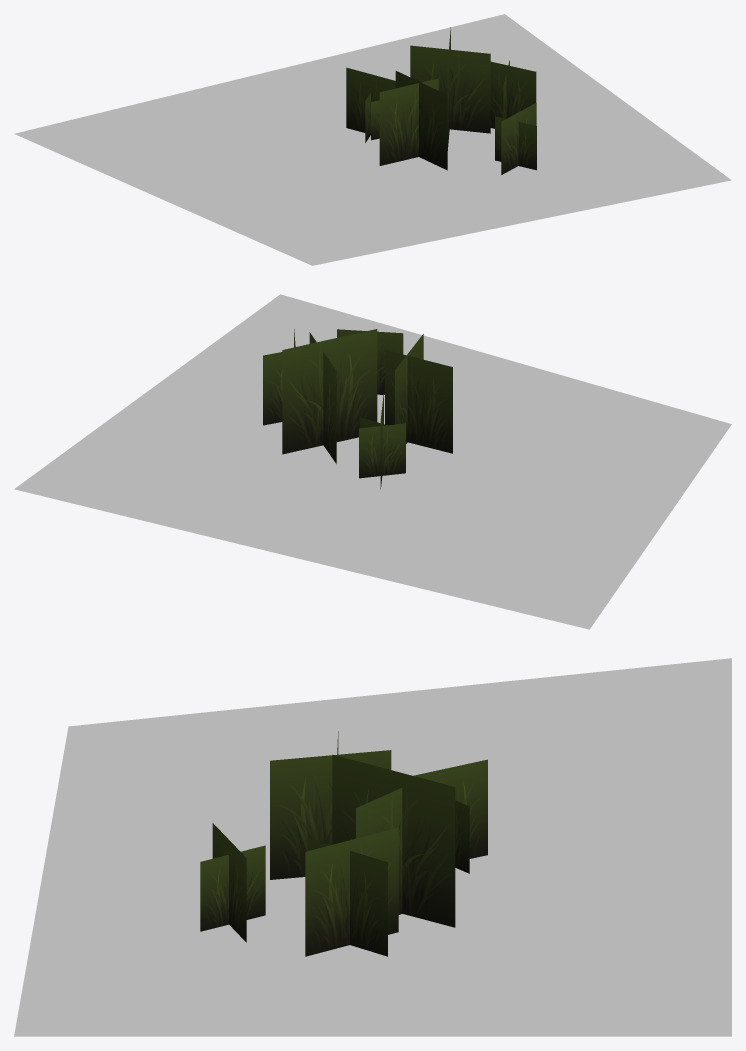
File: Mud_Decal_08.fbx
The picture shows the model from 3 angles, top to bottom: view 1: azimuth 30°, elevation 25°; view 2: azimuth 150°, elevation 25°; view 3: azimuth 270°, elevation 25°; orthographic projection. The views are drawn at different scales.
Visible parts, largest first — view 1: Mud_Decal_08; view 2: Mud_Decal_08; view 3: Mud_Decal_08.
Part boxes in pixels (<box>): Mud_Decal_08: <box>14,14,731,265</box>; Mud_Decal_08: <box>14,294,731,629</box>; Mud_Decal_08: <box>14,658,731,1036</box>.
Size of the model in its own units: 6.35 by 5.09 by 1.12.
